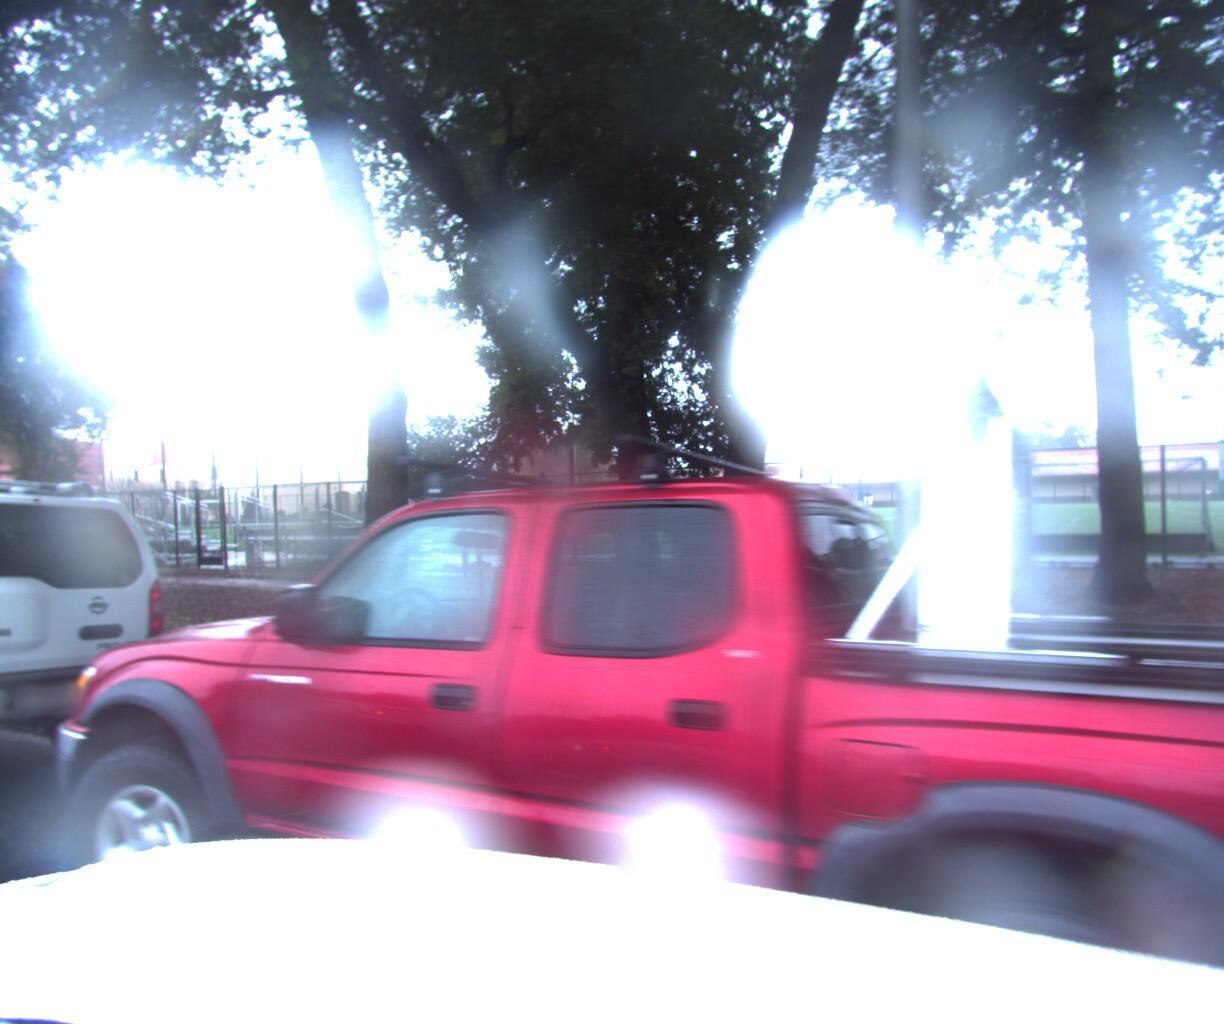car: (0, 273, 1224, 1024), (0, 474, 199, 868)
